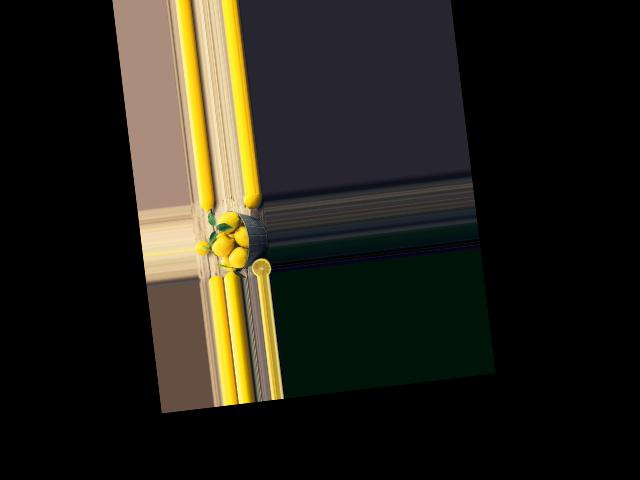lemon: (227, 242, 255, 269)
